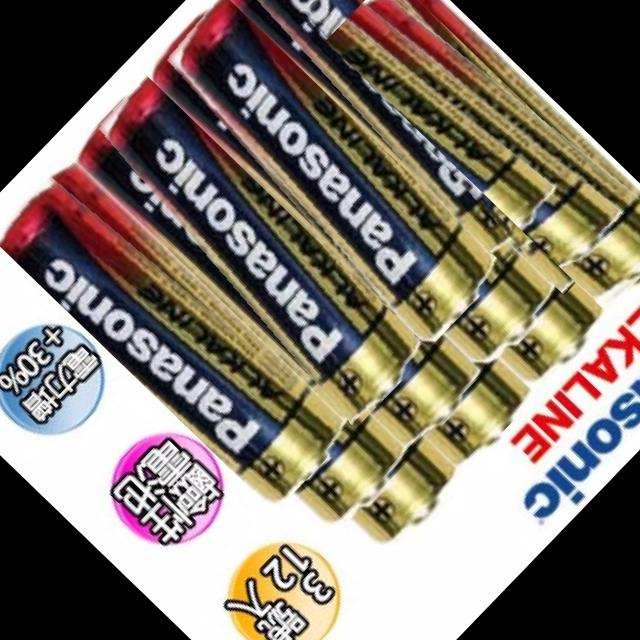Hazard: (66, 72, 430, 429), (136, 0, 505, 352), (0, 155, 351, 512), (279, 0, 639, 295), (324, 0, 640, 317), (216, 0, 579, 270)
